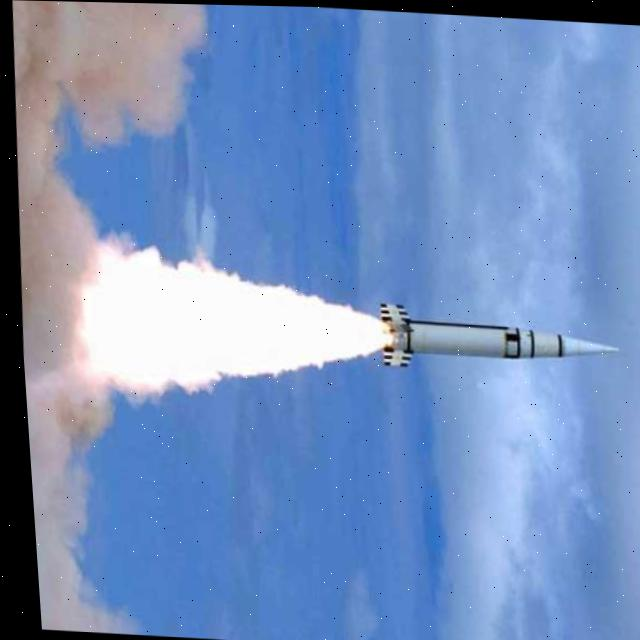missile: (360, 298, 625, 388)
